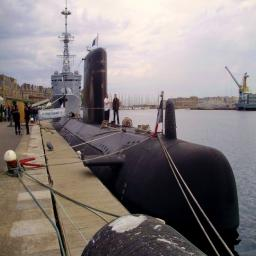submarine: (55, 48, 240, 231)
